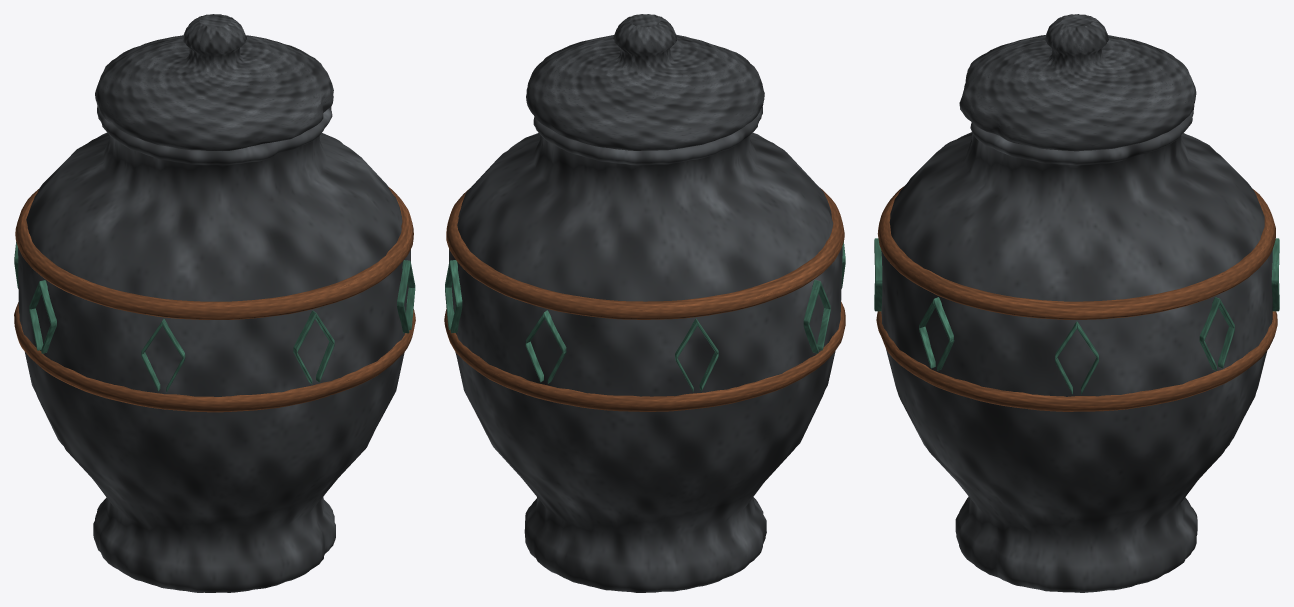
Rendered from valdris_funerary_urn.glb.
The picture shows the model from 3 angles, left to right: view 1: azimuth 30°, elevation 25°; view 2: azimuth 150°, elevation 25°; view 3: azimuth 270°, elevation 25°; orthographic projection.
Visible parts, largest first — view 1: Basalt urn body, Removable basalt lid, Upper bronze band, Lower bronze band, Fractured seal ridges; view 2: Basalt urn body, Removable basalt lid, Upper bronze band, Lower bronze band, Fractured seal ridges; view 3: Basalt urn body, Removable basalt lid, Upper bronze band, Lower bronze band, Fractured seal ridges.
Boxes of the visible parts, box(x1,y1,x2,y2) form: Basalt urn body: box(18, 106, 410, 592); Removable basalt lid: box(95, 14, 333, 150); Upper bronze band: box(15, 187, 413, 319); Lower bronze band: box(14, 302, 415, 412); Fractured seal ridges: box(14, 241, 415, 392); Basalt urn body: box(449, 107, 842, 592); Removable basalt lid: box(526, 14, 764, 150); Upper bronze band: box(446, 188, 844, 319); Lower bronze band: box(444, 301, 845, 411); Fractured seal ridges: box(445, 241, 845, 391); Basalt urn body: box(881, 105, 1272, 592); Removable basalt lid: box(959, 14, 1196, 151); Upper bronze band: box(877, 186, 1275, 319); Lower bronze band: box(876, 311, 1277, 411); Fractured seal ridges: box(874, 238, 1279, 394).
Bounding box in the file's own units: 0.5519 × 0.79 × 0.5519.
Materials: 3 (3 with a texture image).
